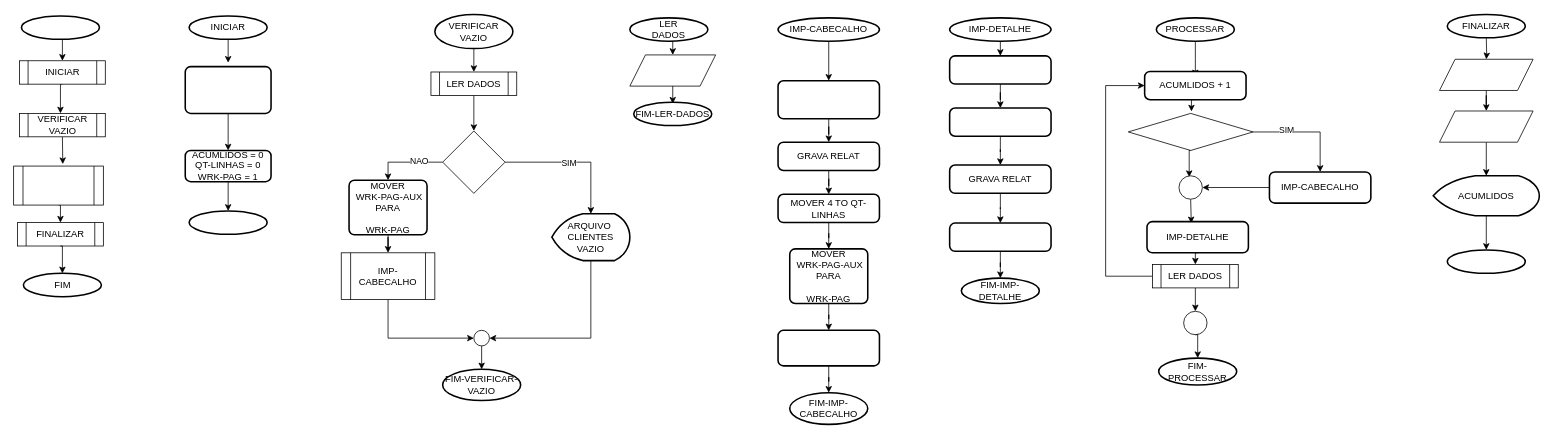
Some shapes in this 1554 by 438 pixel diagram are drawn without their labels. The shapes that lost their labels are listed below. From the top down, each one's centre as x and y in pixels, then its label:
point 60,27: INICIO
point 227,89: ABRIR CLIENTES ABRIR RELAT
point 672,70: LER CLIENTES
point 999,69: MOVE CLIENTES PARA DETALHE
point 1486,74: FECHAR ARQ-CLIENTES
point 828,99: MOVER CABECALHO PARA RELAT
point 999,122: MOVER DETALHE PARA ARQ-RELAT
point 1190,131: QT-LINHAS > 12
point 1486,126: FECHAR ARQ-RELAT
point 473,161: ARQUIVO CLENTES VAZIO
point 58,185: PROCESSAR até EOF de CLIENTES
point 228,222: FIM-INICIAR
point 999,237: QT-LINHAS = QT-LINHAS + 1
point 1486,261: FIM-FINALIZAR
point 828,347: MOVER 1 TO WRK-PAG
